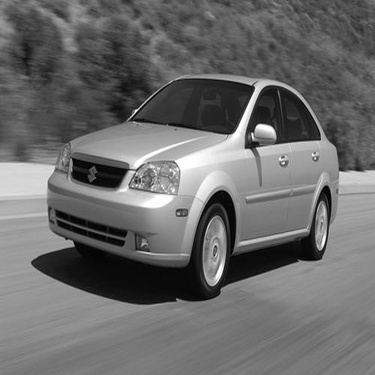car: (47, 71, 353, 285)
